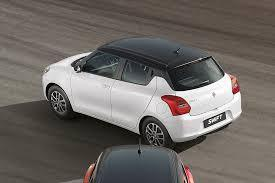Hatchback: (42, 36, 242, 146)
